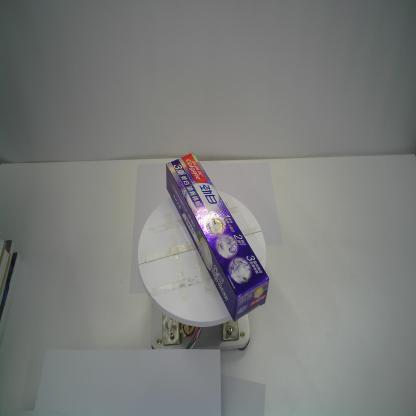Personal Hygiene: (164, 150, 271, 323)
